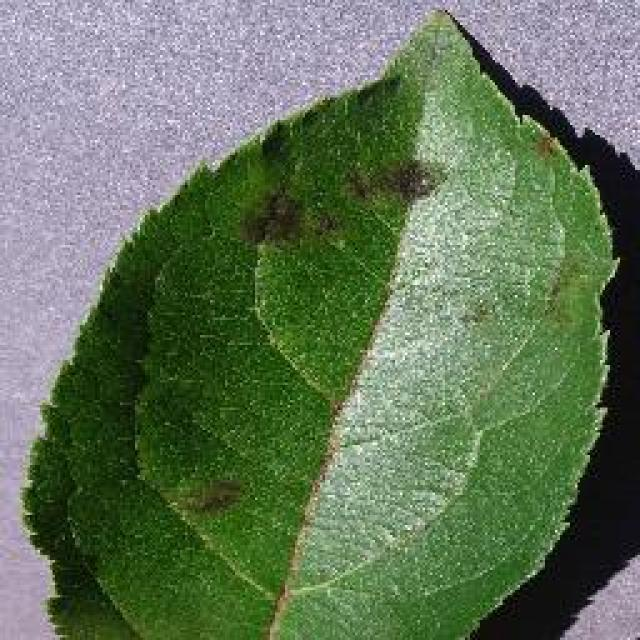apple scab disease: (18, 5, 620, 637)
